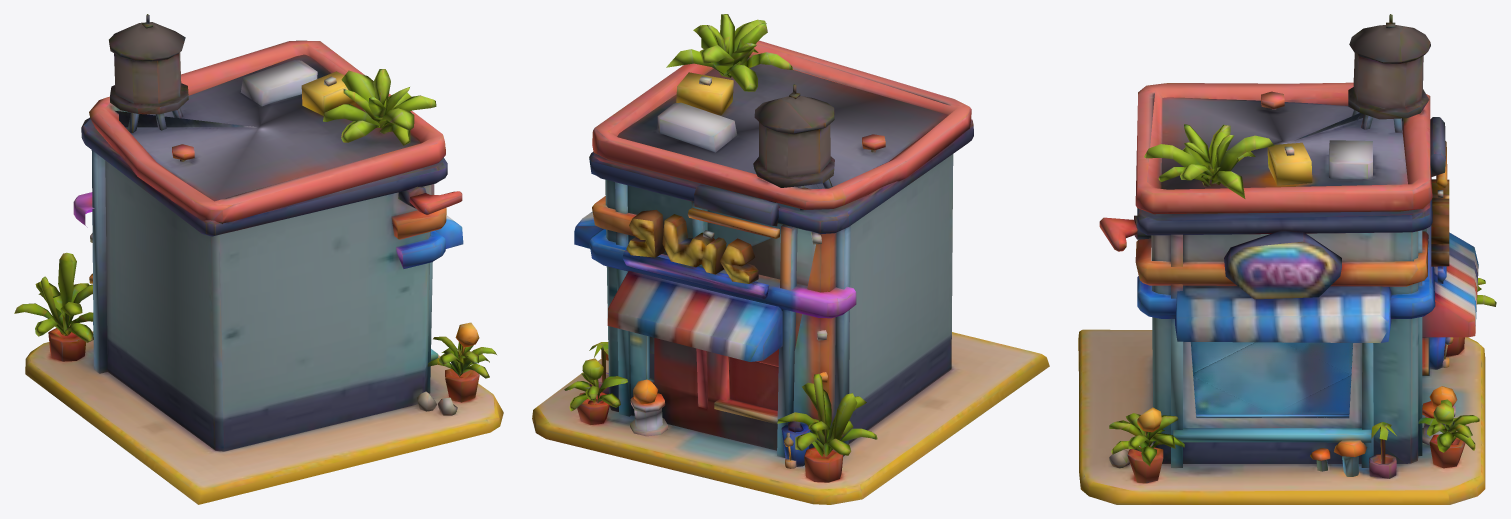
Rendered from bld-shop.glb.
The picture shows the model from 3 angles, left to right: view 1: azimuth 30°, elevation 25°; view 2: azimuth 150°, elevation 25°; view 3: azimuth 270°, elevation 25°; orthographic projection. The views are drawn at different scales.
Parts seen in each view (by area): view 1: tripo_node_2ef5ebf8-8a3a-4ad5-917c-badbfc4ab7d7; view 2: tripo_node_2ef5ebf8-8a3a-4ad5-917c-badbfc4ab7d7; view 3: tripo_node_2ef5ebf8-8a3a-4ad5-917c-badbfc4ab7d7.
Boxes of the visible parts, x1=… form: tripo_node_2ef5ebf8-8a3a-4ad5-917c-badbfc4ab7d7: x1=14, y1=14, x2=503, y2=504; tripo_node_2ef5ebf8-8a3a-4ad5-917c-badbfc4ab7d7: x1=532, y1=14, x2=1049, y2=504; tripo_node_2ef5ebf8-8a3a-4ad5-917c-badbfc4ab7d7: x1=1078, y1=14, x2=1496, y2=504.
Bounding box in the file's own units: 0.9394 × 0.9864 × 0.998.
Materials: 1 (1 with a texture image).
